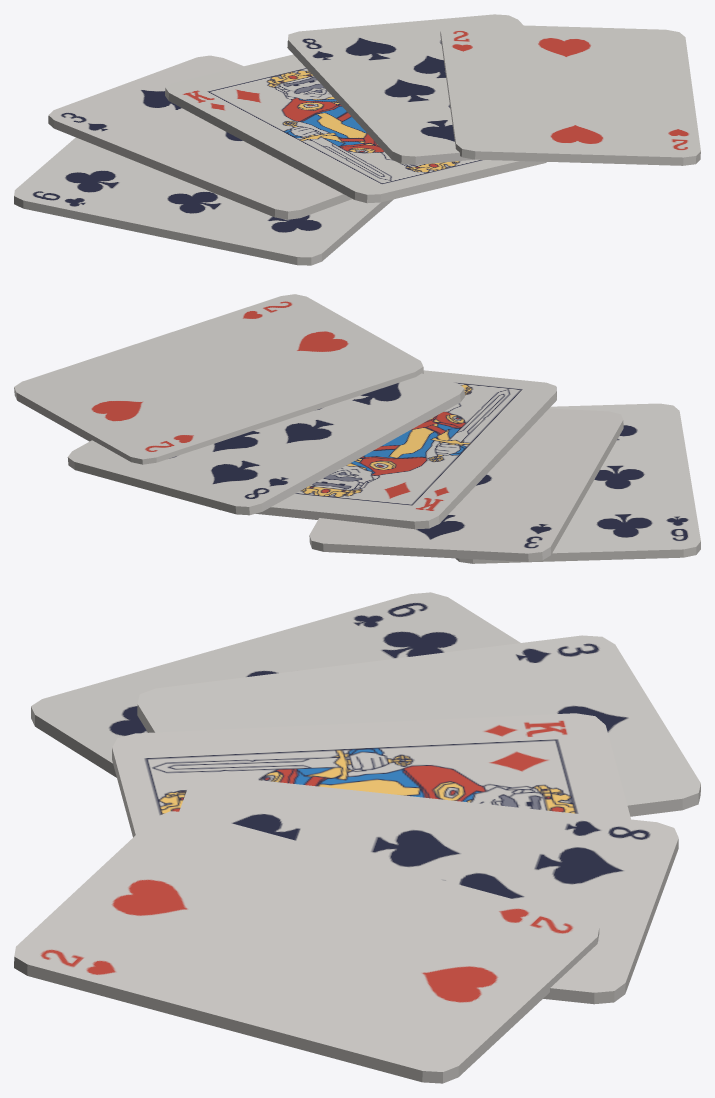
Rendered from SM_Item_Playing_Card_Hand_06.fbx.
3 renders of one model, top to bottom at view 1: azimuth 30°, elevation 25°; view 2: azimuth 150°, elevation 25°; view 3: azimuth 270°, elevation 25°, orthographic. The views are drawn at different scales.
Visible parts, largest first — view 1: SM_Item_Playing_Card_Hand_06; view 2: SM_Item_Playing_Card_Hand_06; view 3: SM_Item_Playing_Card_Hand_06.
Part boxes in pixels (left/top/right/bottom): SM_Item_Playing_Card_Hand_06: left=14, top=14, right=700, bottom=265; SM_Item_Playing_Card_Hand_06: left=14, top=294, right=700, bottom=563; SM_Item_Playing_Card_Hand_06: left=14, top=592, right=700, bottom=1083.
Bounding box in the file's own units: 36.75 × 1.87 × 22.41.
